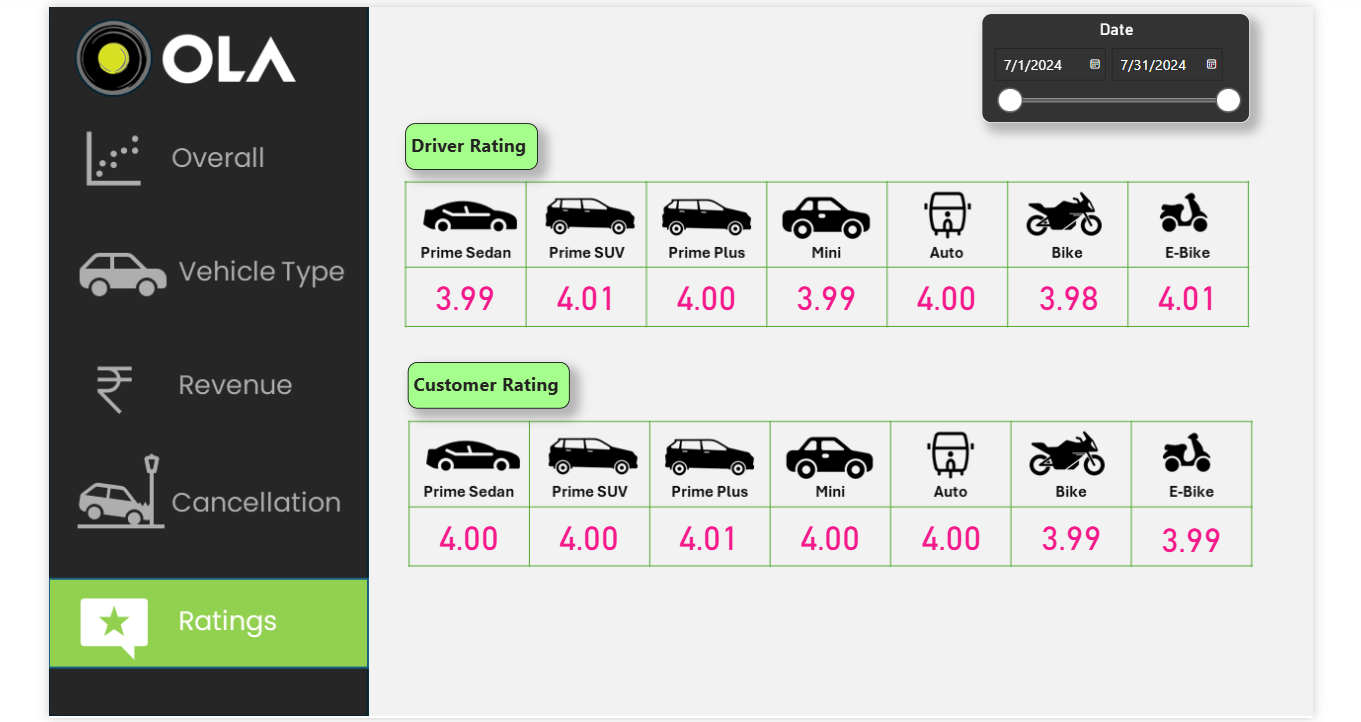

This screenshot's page, from the dashboard's own definition file:
{"tool":"powerbi","page":{"name":"Ratings","canvas":[1280,720],"ordinal":4},"visuals":[{"type":"actionButton","box":[0,220.9,323.9,92],"z":0},{"type":"actionButton","box":[0,336.2,323.9,92],"z":1000},{"type":"actionButton","box":[0,446.6,323.9,92],"z":2000},{"type":"actionButton","box":[0,108,323.9,92],"z":3000},{"type":"card","fields":{"Values":["Avg(July.Driver_Ratings)"]},"box":[373.6,268.1,95.8,48.6],"z":4000},{"type":"card","fields":{"Values":["Avg(July.Driver_Ratings)"]},"box":[495.8,268.1,95.8,48.6],"z":5000},{"type":"card","fields":{"Values":["Avg(July.Driver_Ratings)"]},"box":[618.1,268.1,95.8,48.6],"z":6000},{"type":"card","fields":{"Values":["Avg(July.Driver_Ratings)"]},"box":[738.9,268.1,95.8,48.6],"z":7000},{"type":"card","fields":{"Values":["Avg(July.Driver_Ratings)"]},"box":[861.1,268.1,95.8,48.6],"z":8000},{"type":"card","fields":{"Values":["Avg(July.Driver_Ratings)"]},"box":[984.7,268.1,95.8,48.6],"z":9000},{"type":"card","fields":{"Values":["Avg(July.Driver_Ratings)"]},"box":[1105.6,268.1,95.8,48.6],"z":10000},{"type":"card","fields":{"Values":["Avg(July.Customer_Rating)"]},"box":[377.8,511.1,95.8,48.6],"z":11000},{"type":"card","fields":{"Values":["Avg(July.Customer_Rating)"]},"box":[498.6,511.1,95.8,48.6],"z":12000},{"type":"card","fields":{"Values":["Avg(July.Customer_Rating)"]},"box":[620.8,511.1,95.8,48.6],"z":13000},{"type":"card","fields":{"Values":["Avg(July.Customer_Rating)"]},"box":[743.1,511.1,95.8,48.6],"z":14000},{"type":"card","fields":{"Values":["Avg(July.Customer_Rating)"]},"box":[865.3,511.1,95.8,48.6],"z":15000},{"type":"card","fields":{"Values":["Avg(July.Customer_Rating)"]},"box":[987.5,511.1,95.8,48.6],"z":16000},{"type":"card","fields":{"Values":["Avg(July.Customer_Rating)"]},"box":[1108.3,512.5,95.8,48.6],"z":17000},{"type":"textbox","box":[361.1,118.1,134.7,47.2],"z":18000},{"type":"textbox","box":[363.9,359.7,163.9,47.2],"z":19000},{"type":"slicer","title":"Date","fields":{"Values":["July.Date"]},"box":[944.4,6.9,272.2,111.1],"z":20000}]}

Visuals, with their boxes on the page's 1280x720 design canvas (x1, y1, x2, y2). These are canvas units, not pixel positions in the 1361x722 screenshot, which may show the page scaled, cropped or inside an application window:
actionButton: locate(0, 221, 324, 313)
actionButton: locate(0, 336, 324, 428)
actionButton: locate(0, 447, 324, 539)
actionButton: locate(0, 108, 324, 200)
card - Avg(July.Driver_Ratings): locate(374, 268, 469, 317)
card - Avg(July.Driver_Ratings): locate(496, 268, 592, 317)
card - Avg(July.Driver_Ratings): locate(618, 268, 714, 317)
card - Avg(July.Driver_Ratings): locate(739, 268, 835, 317)
card - Avg(July.Driver_Ratings): locate(861, 268, 957, 317)
card - Avg(July.Driver_Ratings): locate(985, 268, 1080, 317)
card - Avg(July.Driver_Ratings): locate(1106, 268, 1201, 317)
card - Avg(July.Customer_Rating): locate(378, 511, 474, 560)
card - Avg(July.Customer_Rating): locate(499, 511, 594, 560)
card - Avg(July.Customer_Rating): locate(621, 511, 717, 560)
card - Avg(July.Customer_Rating): locate(743, 511, 839, 560)
card - Avg(July.Customer_Rating): locate(865, 511, 961, 560)
card - Avg(July.Customer_Rating): locate(988, 511, 1083, 560)
card - Avg(July.Customer_Rating): locate(1108, 512, 1204, 561)
textbox: locate(361, 118, 496, 165)
textbox: locate(364, 360, 528, 407)
"Date" slicer: locate(944, 7, 1217, 118)
